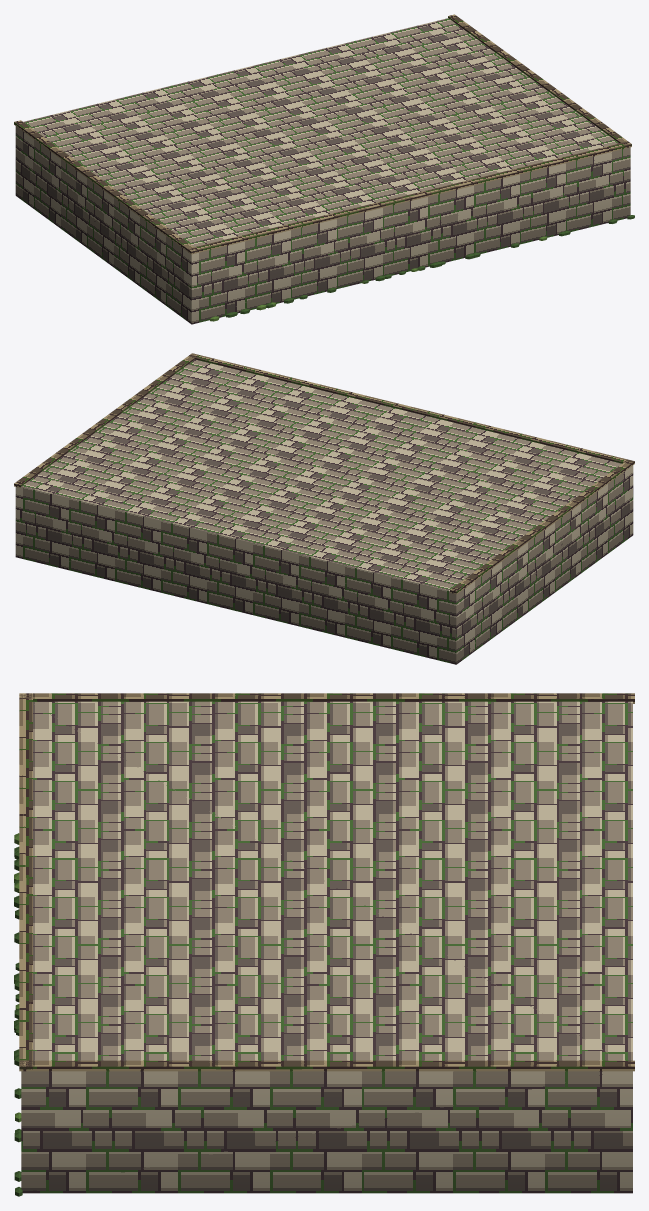
File: scene_wall_w0.glb
The picture shows the model from 3 angles, top to bottom: view 1: azimuth 30°, elevation 25°; view 2: azimuth 150°, elevation 25°; view 3: azimuth 270°, elevation 25°; orthographic projection. The views are drawn at different scales.
Parts seen in each view (by area): view 1: scene_wall_w0; view 2: scene_wall_w0; view 3: scene_wall_w0.
Boxes of the visible parts, x1,y1,x2,y2 form: scene_wall_w0: (14, 14, 634, 324); scene_wall_w0: (14, 353, 634, 664); scene_wall_w0: (14, 693, 634, 1196).
Size of the model in its own units: 23.25 by 3.77 by 16.24.
2 materials, 1 textured.
